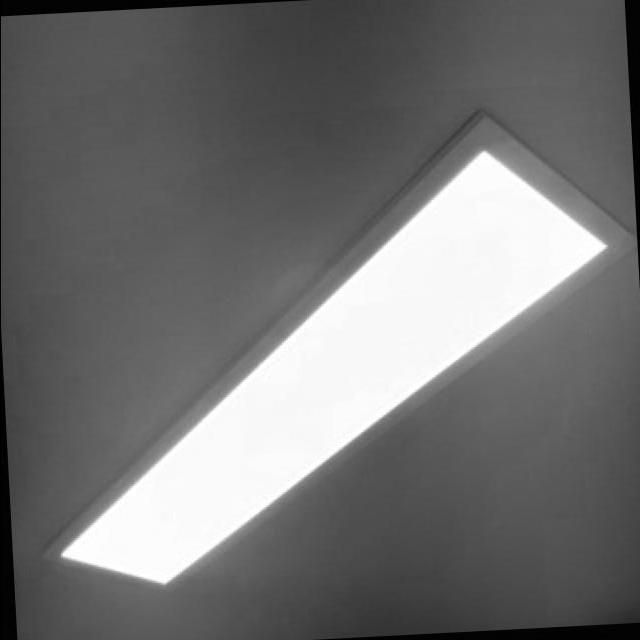light: (41, 111, 619, 588)
